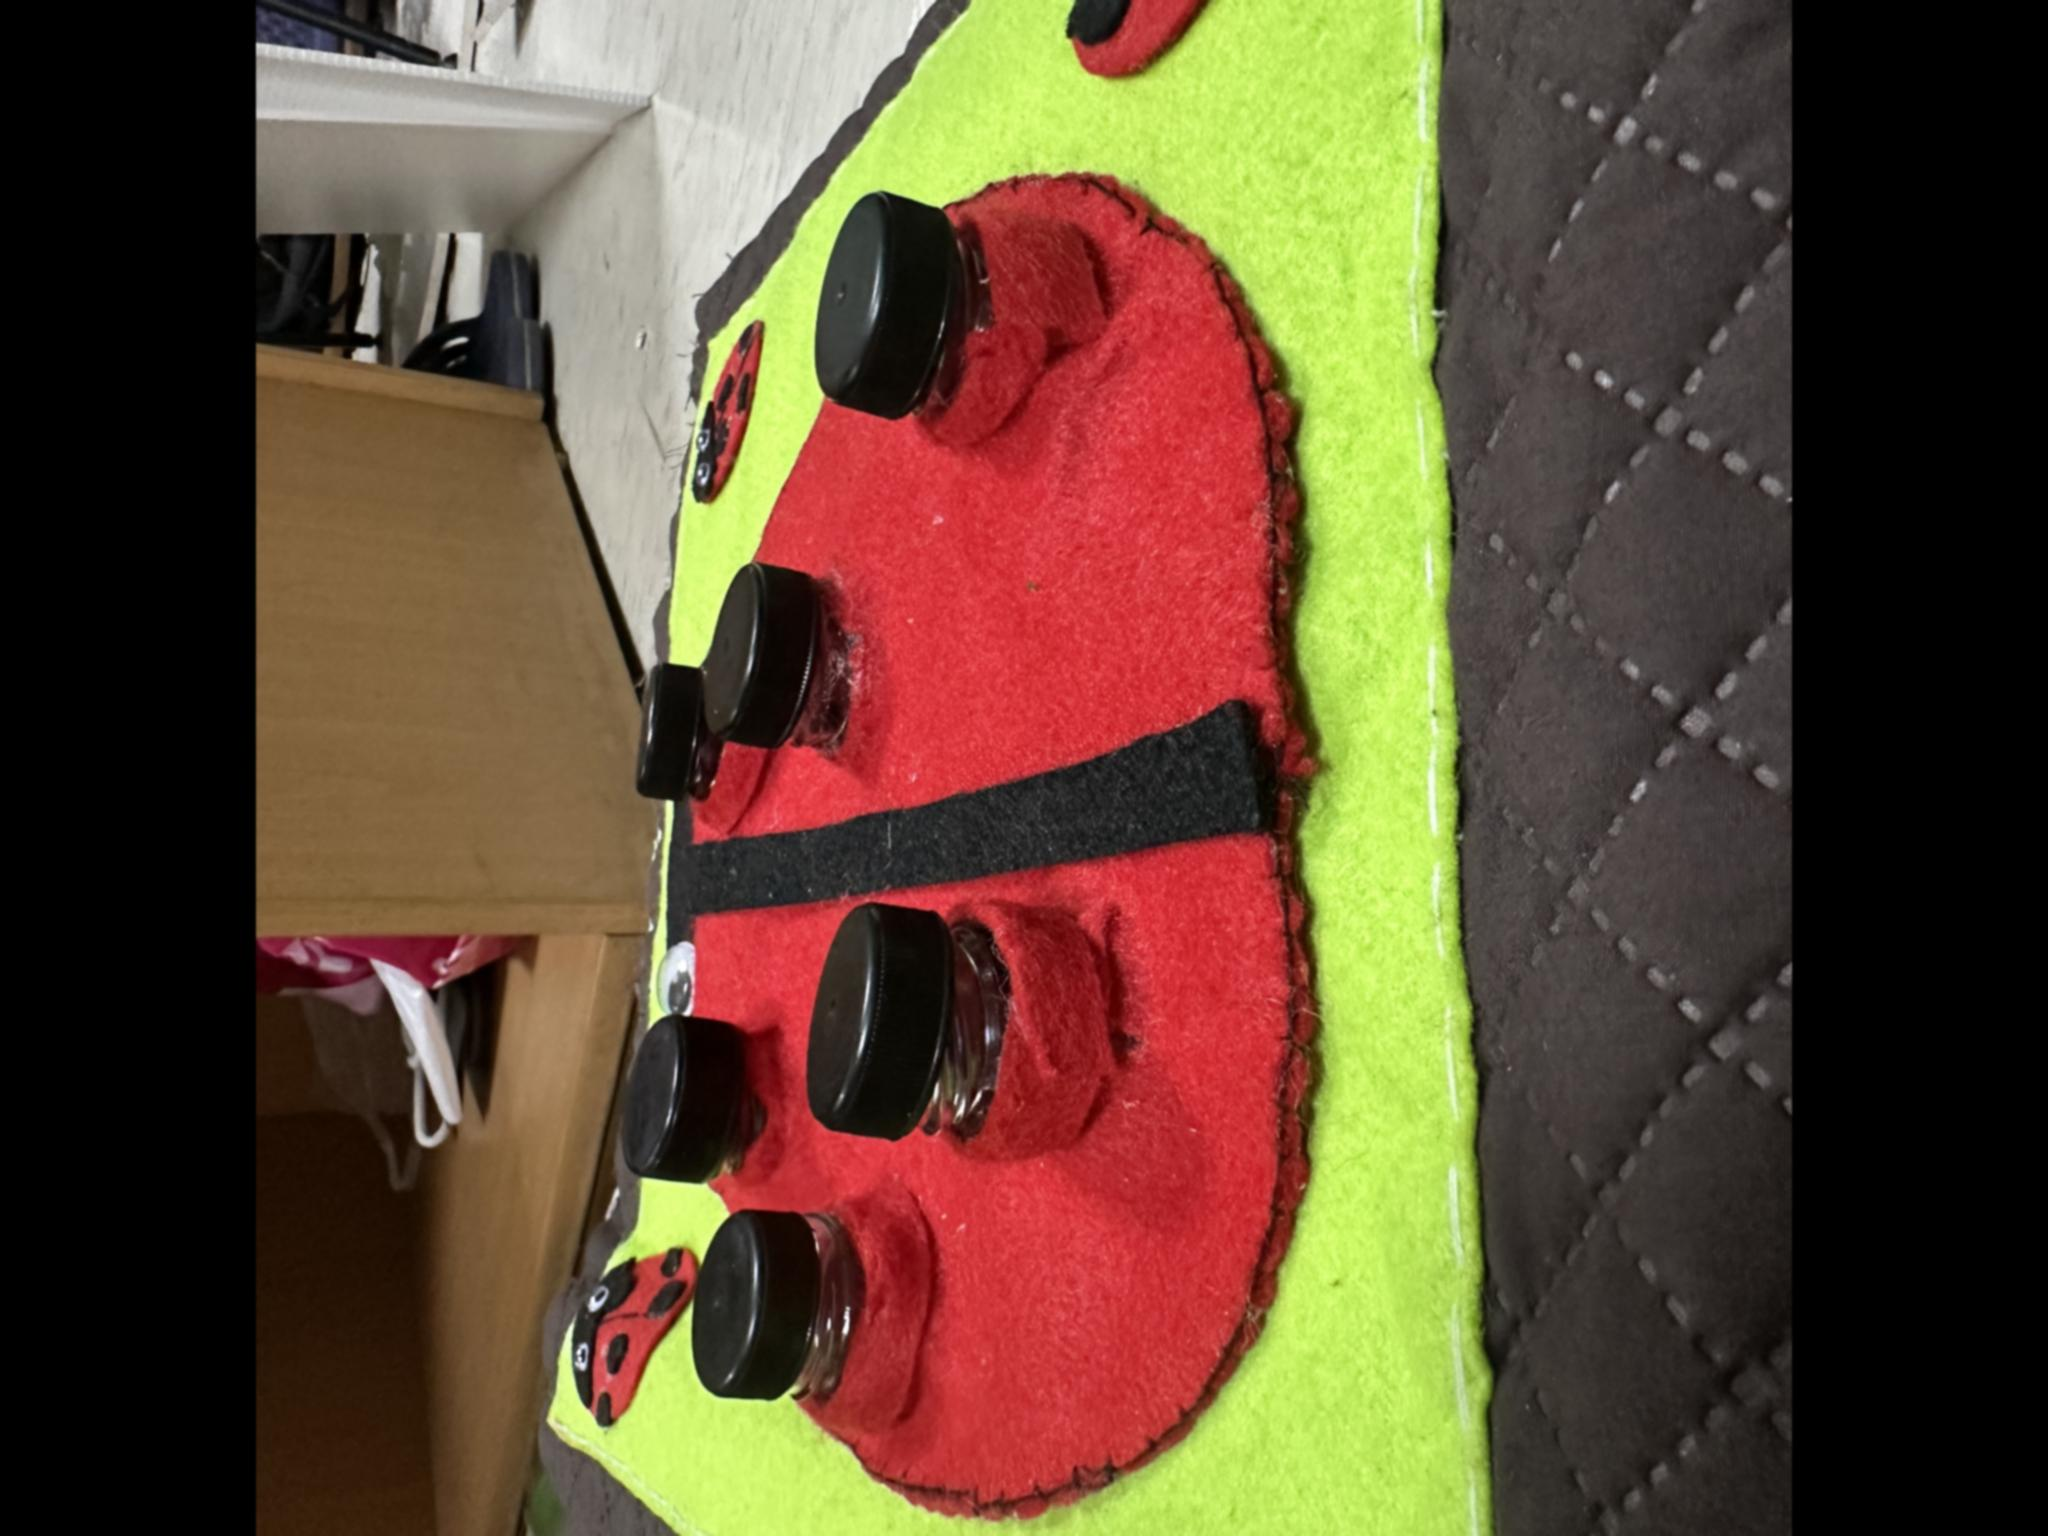cap_ng: (768, 908, 1126, 1162), (763, 186, 1085, 421), (684, 1205, 942, 1418), (697, 547, 924, 760), (603, 1012, 792, 1197), (613, 657, 760, 821)
